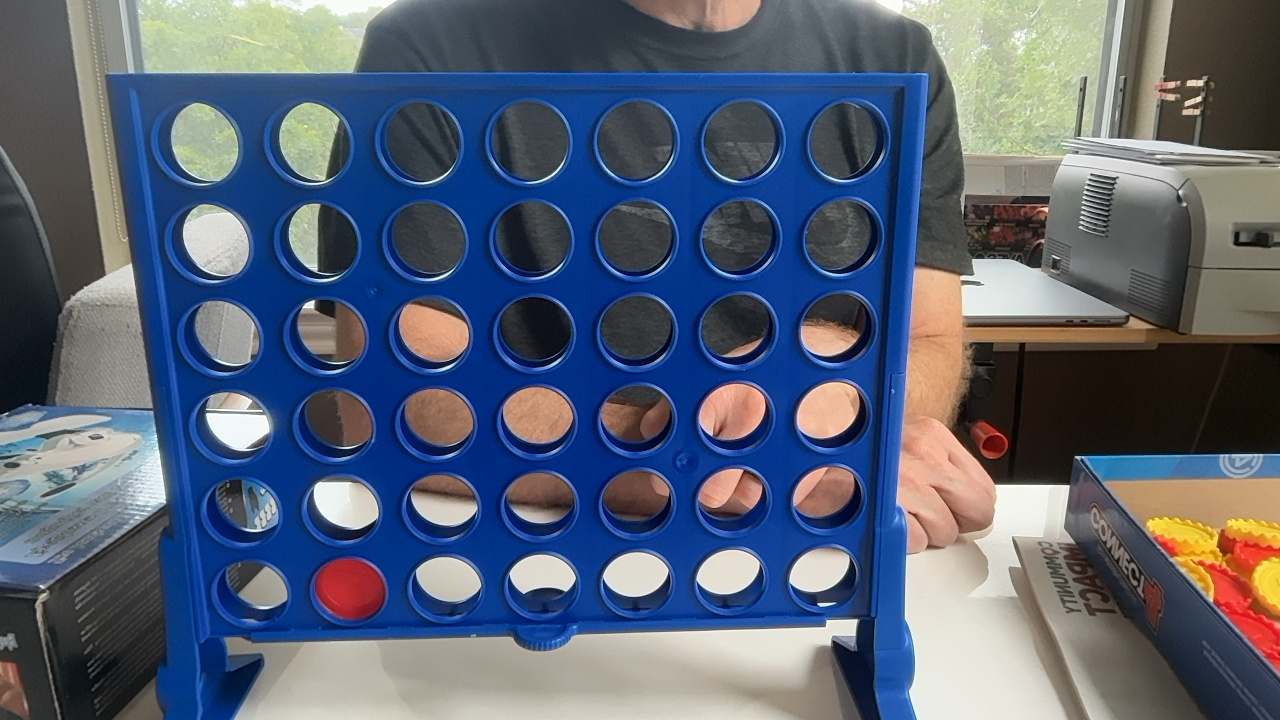red piece: (314, 558, 386, 621)
